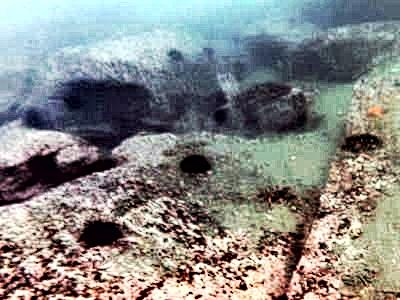urchin: (81, 220, 118, 244), (181, 155, 207, 172)
